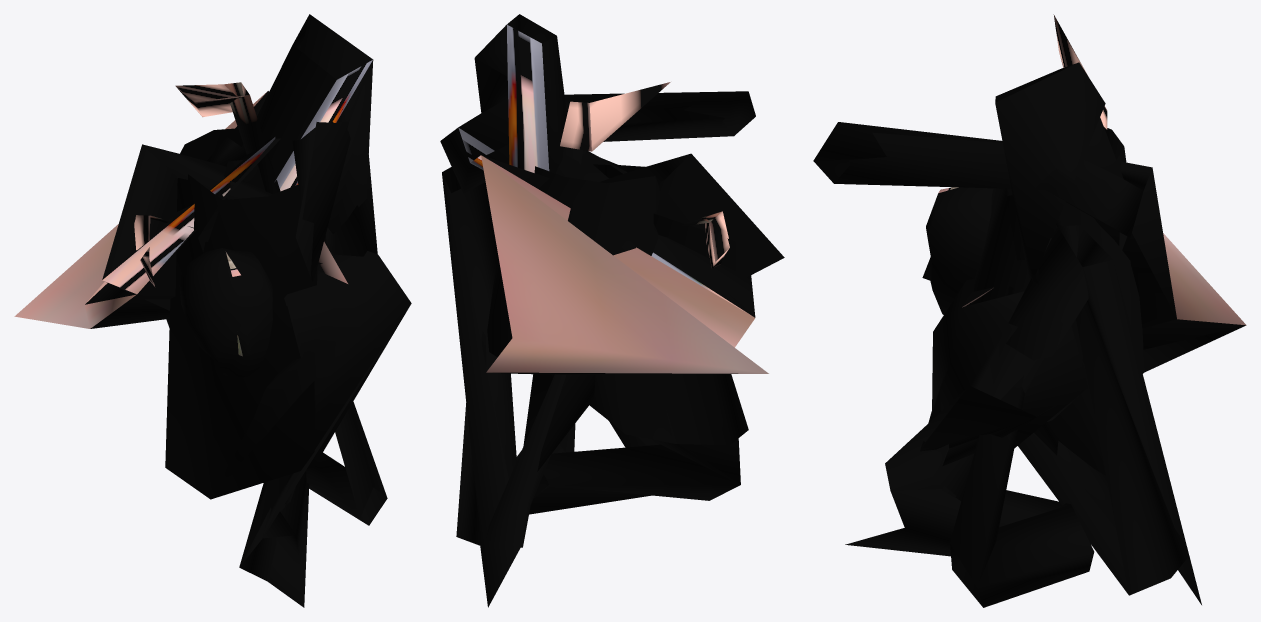
3 renders of one model, left to right at view 1: azimuth 30°, elevation 25°; view 2: azimuth 150°, elevation 25°; view 3: azimuth 270°, elevation 25°, orthographic. The views are drawn at different scales.
Visible parts, largest first — view 1: T1L1M006_2; view 2: T1L1M006_2; view 3: T1L1M006_2.
Boxes of the visible parts, bbox=[...] form: T1L1M006_2: bbox=[14, 14, 411, 607]; T1L1M006_2: bbox=[440, 14, 784, 607]; T1L1M006_2: bbox=[813, 14, 1246, 607].
Bounding box in the file's own units: 0.8331 × 1.21 × 0.8445.
